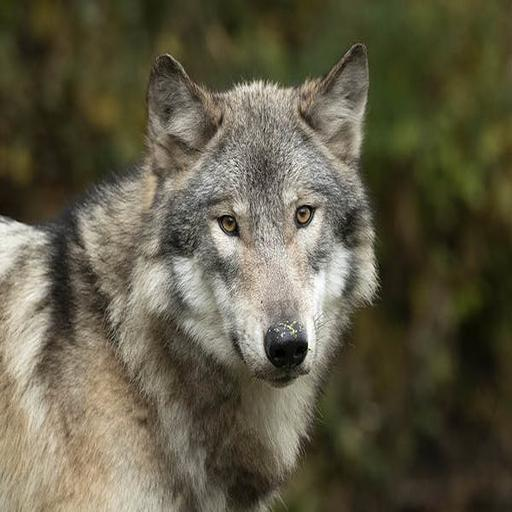Wolf: (0, 41, 386, 512)
